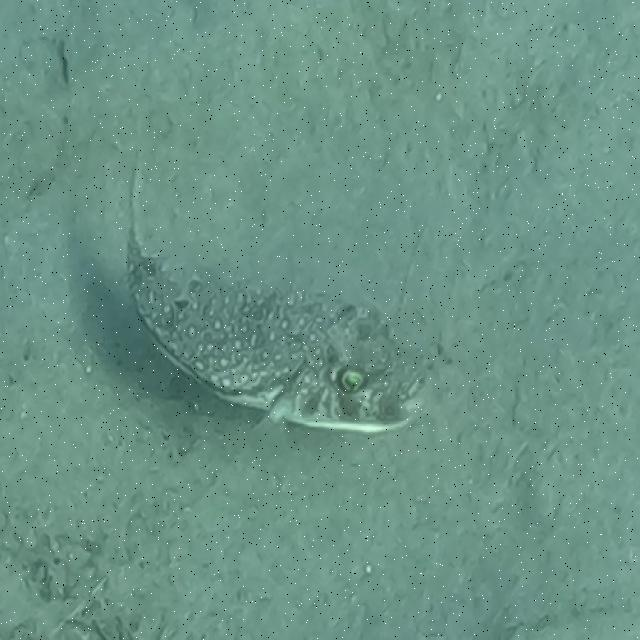Balik: (127, 187, 423, 433)
